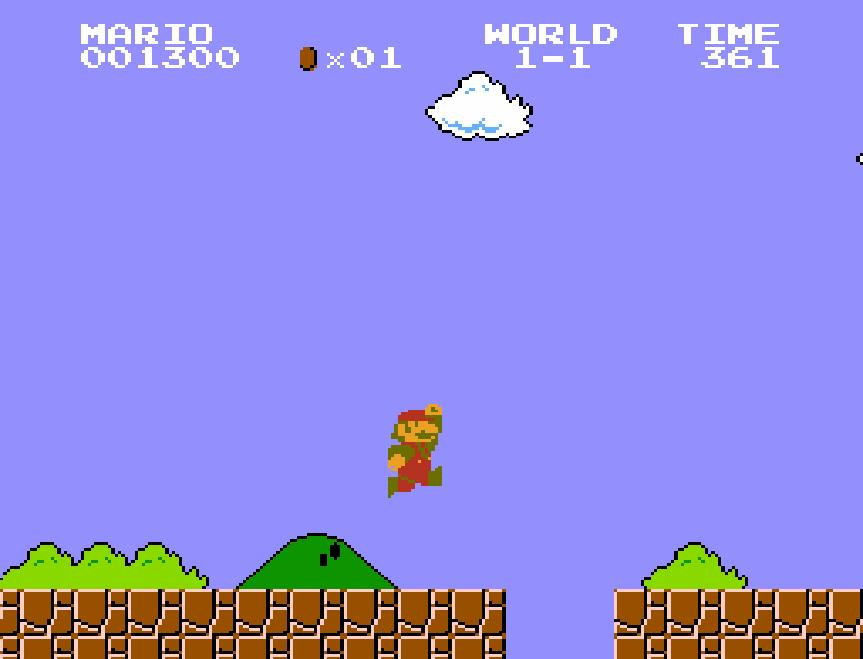big_mario: (386, 402, 444, 500)
